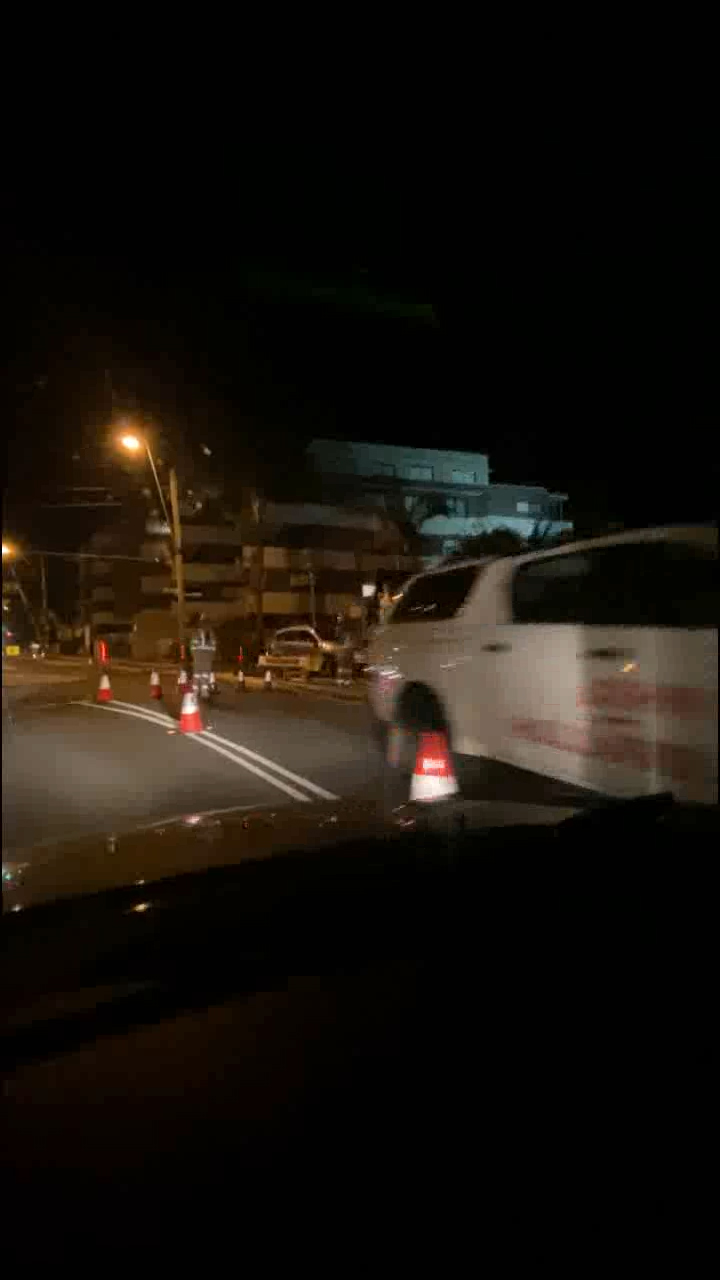person: (185, 610, 223, 705)
road cone: (178, 685, 198, 740), (92, 675, 113, 708), (152, 668, 165, 697)
